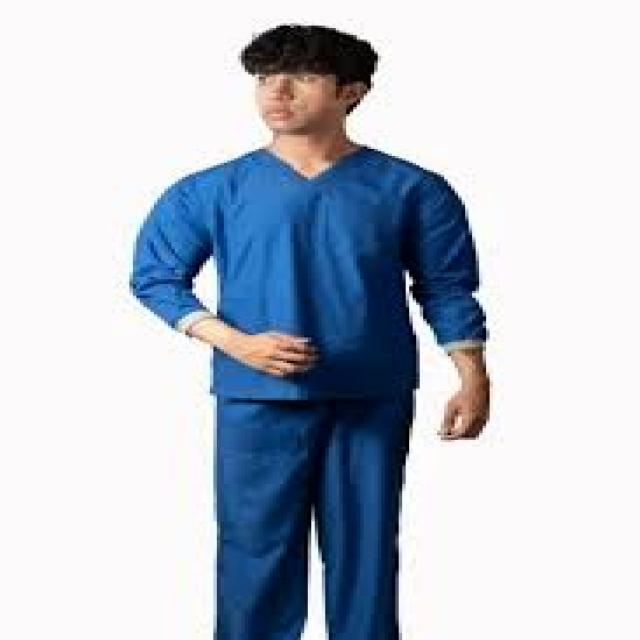face: (256, 73, 363, 132)
lower-wear: (214, 391, 412, 639)
top-wear: (130, 145, 489, 400)
